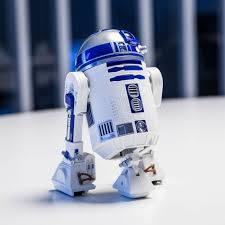r2d2: (51, 29, 163, 198)
